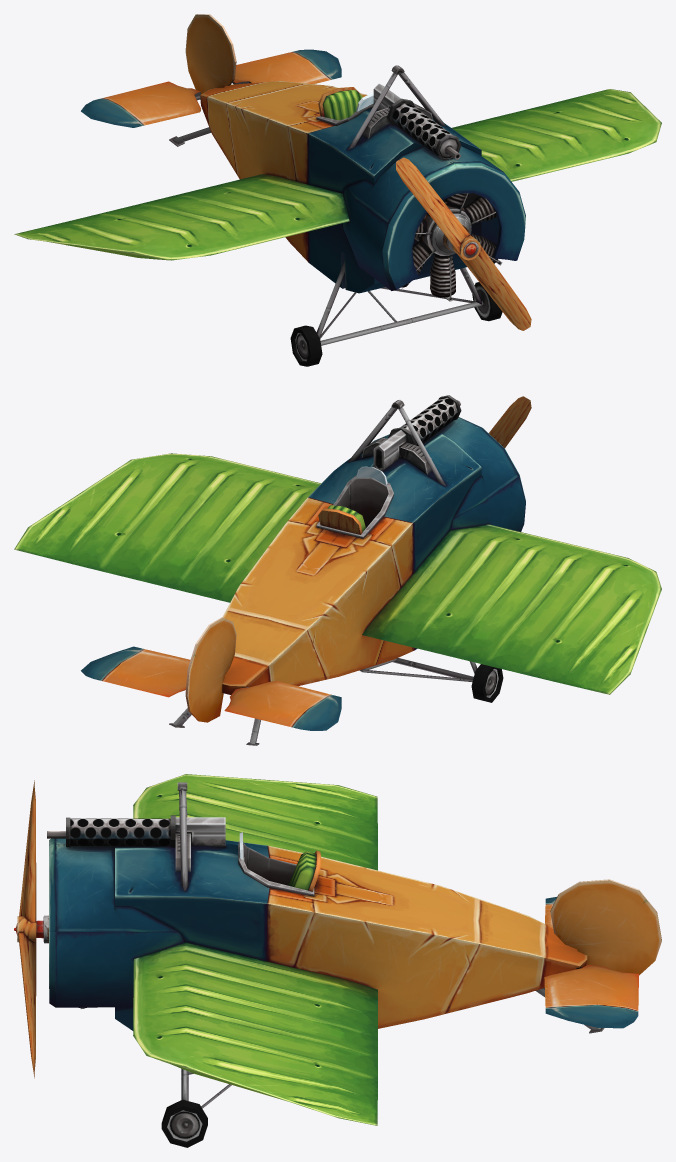
File: AirPlane06.fbx
3 renders of one model, top to bottom at view 1: azimuth 30°, elevation 25°; view 2: azimuth 150°, elevation 25°; view 3: azimuth 270°, elevation 25°, orthographic. The views are drawn at different scales.
Parts seen in each view (by area): view 1: Cube.002, Cube.001; view 2: Cube.002, Cube.001; view 3: Cube.002, Cube.001.
Boxes of the visible parts, x1,y1,x2,y2 form: Cube.002: (14,14,661,366); Cube.001: (396,157,531,330); Cube.002: (14,395,661,745); Cube.001: (489,396,531,447); Cube.002: (36,774,661,1147); Cube.001: (14,780,36,1078).
Bounding box in the file's own units: 218 × 95.52 × 179.
